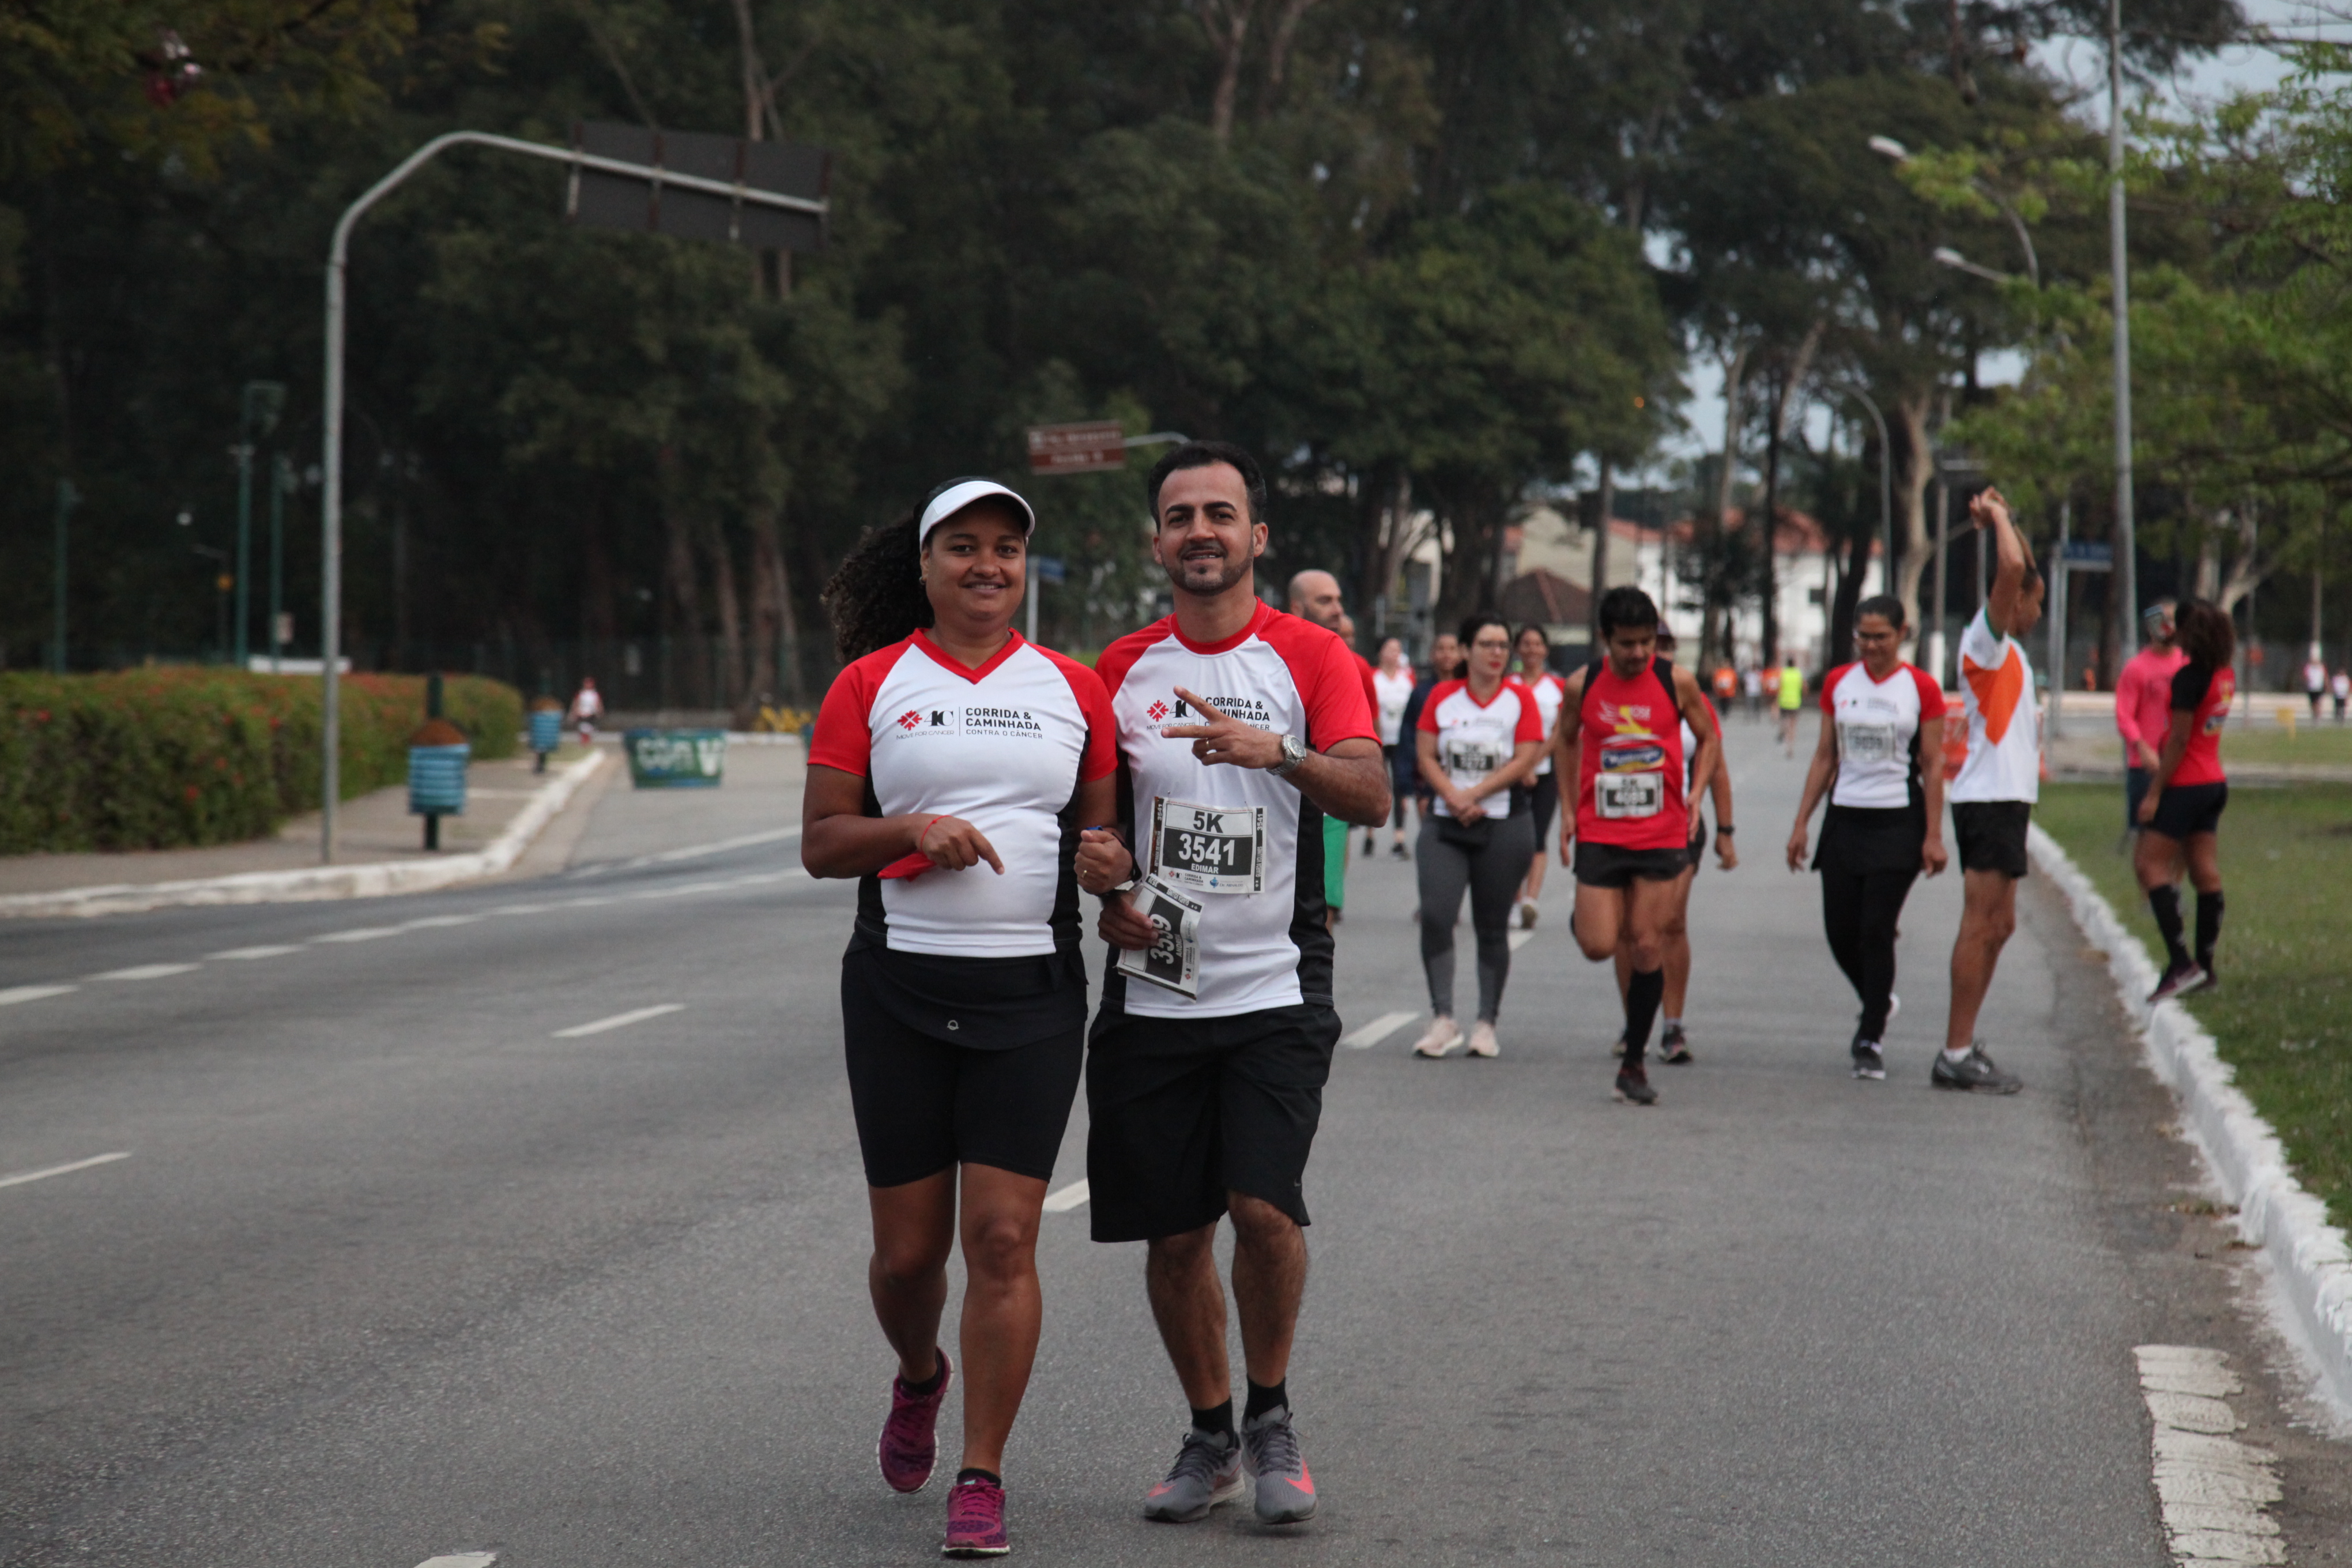bibtag: (1137, 793, 1270, 910), (1580, 761, 1675, 828)
